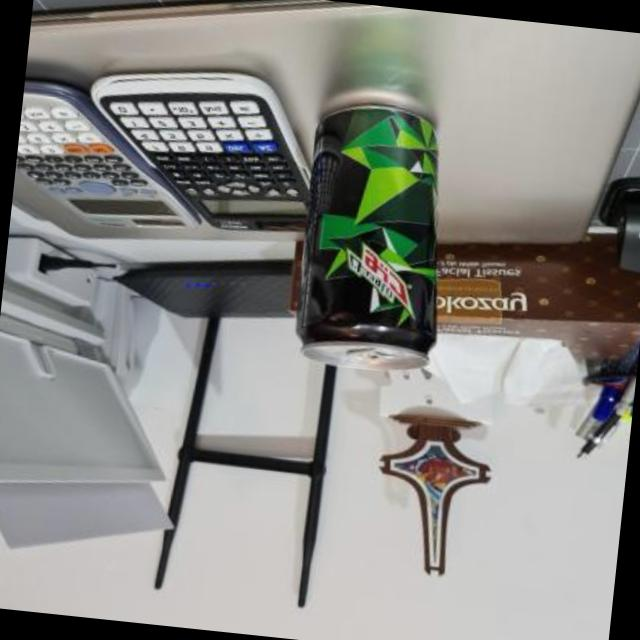cardboard paper: (429, 333, 582, 419), (0, 482, 166, 546)
metal: (295, 101, 436, 369)
